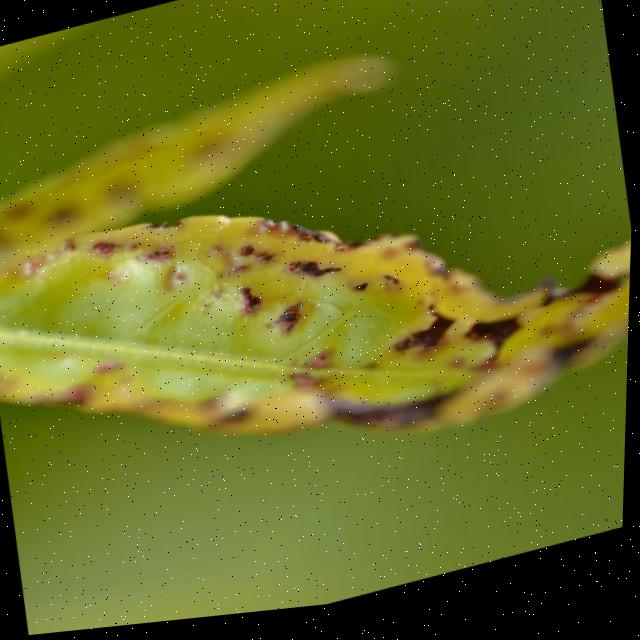Tea red scab: (23, 174, 537, 504)
